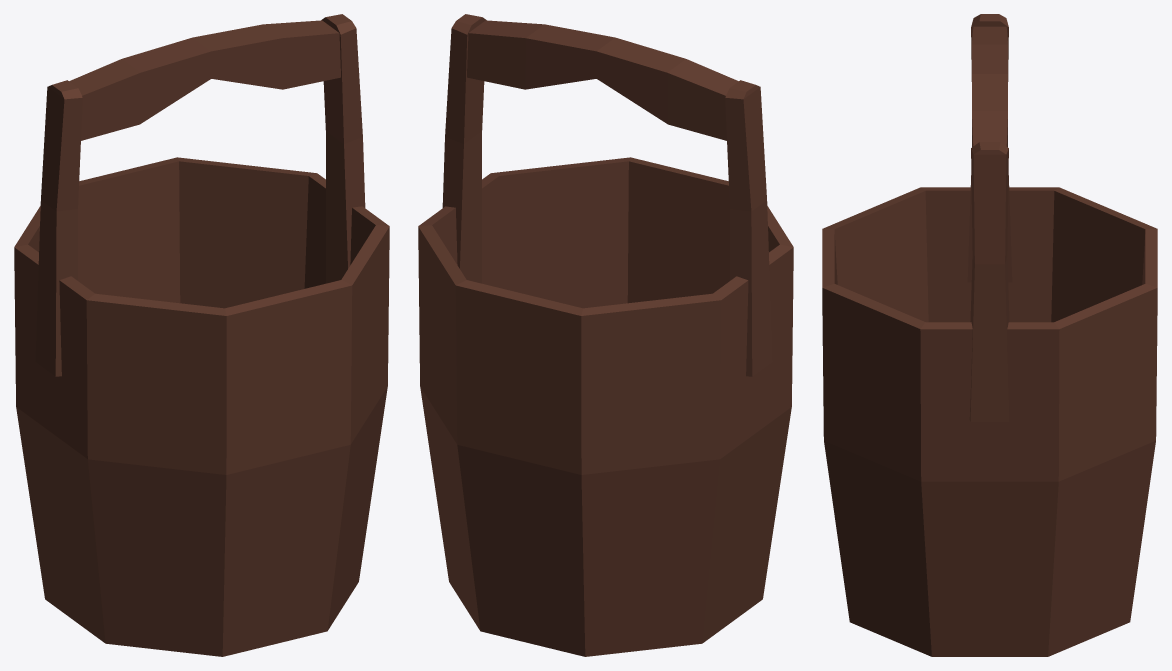
The picture shows the model from 3 angles, left to right: view 1: azimuth 30°, elevation 25°; view 2: azimuth 150°, elevation 25°; view 3: azimuth 270°, elevation 25°; orthographic projection. The views are drawn at different scales.
Parts seen in each view (by area): view 1: shuitong; view 2: shuitong; view 3: shuitong.
Boxes of the visible parts, x1,y1,x2,y2 form: shuitong: (14,14,389,656); shuitong: (418,14,793,656); shuitong: (822,14,1157,656).
Size of the model in its own units: 66.73 by 111 by 64.69.
